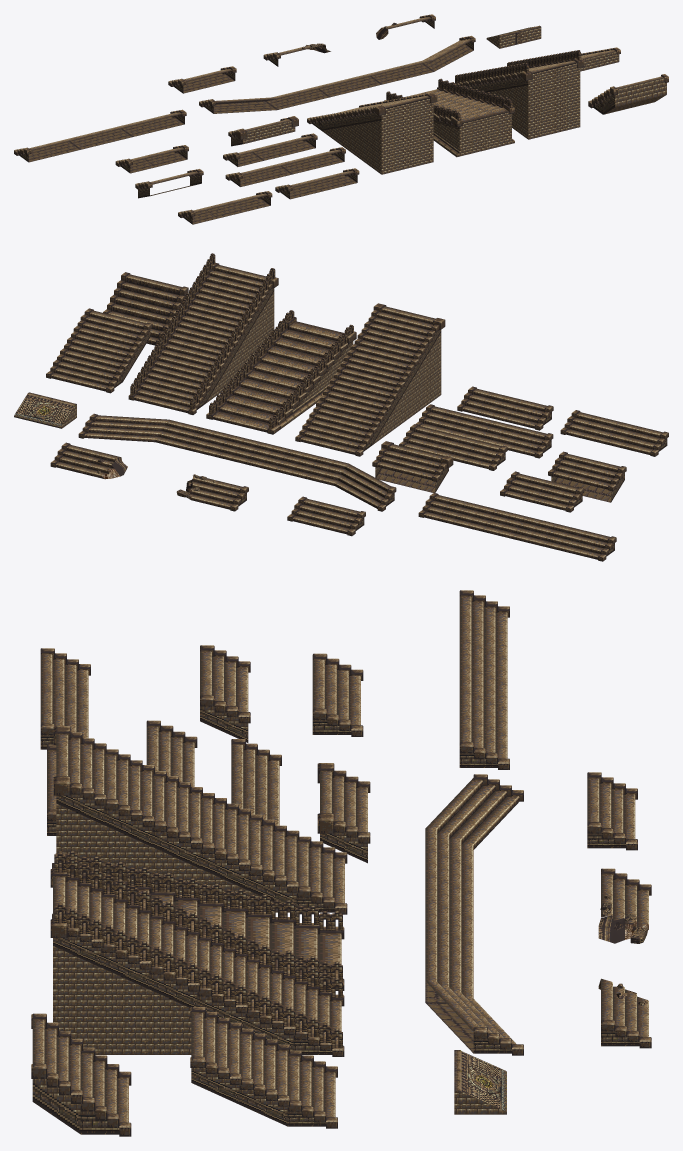
Rendered from EnvMdrMD_Ruins_A_Stairs_A.FBX.
3 views of the same model, one above another, from view 1: azimuth 30°, elevation 25°; view 2: azimuth 150°, elevation 25°; view 3: azimuth 270°, elevation 25° (orthographic). The views are drawn at different scales.
Parts seen in each view (by area): view 1: EnvMdrMD_Ruins_A_Stairs_Spline_B, EnvMdrMD_Ruins_A_Stairs_A, EnvMdrMD_Ruins_A_Stairs_Spline_A, EnvMdrMD_Ruins_A_Stairs_Wide_B, EnvMdrMD_Ruins_A_Stairs_Wide_A, EnvMdrMD_Ruins_A_Stairs_A_Small, EnvMdrMD_Ruins_A_Stairs_Wide_C, EnvMdrMD_Ruins_A_Stairs_Wide_G, EnvMdrMD_Ruins_A_Stairs_Wide_D, EnvMdrMD_Ruins_A_Stairs_Wide_E, EnvMdrMD_Ruins_A_Stairs_A_End, EnvMdrMD_Ruins_A_Stairs_Wide_F (+5 smaller); view 2: EnvMdrMD_Ruins_A_Stairs_Spline_B, EnvMdrMD_Ruins_A_Stairs_A, EnvMdrMD_Ruins_A_Stairs_Spline_A, EnvMdrMD_Ruins_A_Stairs_Wide_B, EnvMdrMD_Ruins_A_Stairs_A_Half, EnvMdrMD_Ruins_A_Stairs_Wide_A, EnvMdrMD_Ruins_A_Stairs_Wide_A_Broken, EnvMdrMD_Ruins_A_Stairs_A_Small, EnvMdrMD_Ruins_A_Stairs_Wide_C, EnvMdrMD_Ruins_A_Stairs_A_End, EnvMdrMD_Ruins_A_Stairs_Wide_G, EnvMdrMD_Ruins_A_Stairs_Wide_D (+5 smaller); view 3: EnvMdrMD_Ruins_A_Stairs_Spline_B, EnvMdrMD_Ruins_A_Stairs_A, EnvMdrMD_Ruins_A_Stairs_Wide_B, EnvMdrMD_Ruins_A_Stairs_A_Half, EnvMdrMD_Ruins_A_Stairs_Spline_A, EnvMdrMD_Ruins_A_Stairs_A_Small, EnvMdrMD_Ruins_A_Stairs_Wide_A, EnvMdrMD_Ruins_A_Stairs_Wide_A_Broken, EnvMdrMD_Ruins_A_Stairs_A_End, EnvMdrMD_Ruins_A_Stairs_A_Loop, EnvMdrMD_Ruins_A_Stairs_Wide_G, EnvMdrMD_Ruins_A_Stairs_Wide_F (+5 smaller).
Boxes of the visible parts, <box> form: EnvMdrMD_Ruins_A_Stairs_Spline_B: <box>454,50,584,139</box>; EnvMdrMD_Ruins_A_Stairs_A: <box>307,92,437,174</box>; EnvMdrMD_Ruins_A_Stairs_Spline_A: <box>384,78,514,157</box>; EnvMdrMD_Ruins_A_Stairs_Wide_B: <box>199,35,475,113</box>; EnvMdrMD_Ruins_A_Stairs_Wide_A: <box>14,109,186,162</box>; EnvMdrMD_Ruins_A_Stairs_A_Small: <box>588,74,668,114</box>; EnvMdrMD_Ruins_A_Stairs_Wide_C: <box>225,147,345,186</box>; EnvMdrMD_Ruins_A_Stairs_Wide_G: <box>178,191,272,224</box>; EnvMdrMD_Ruins_A_Stairs_Wide_D: <box>223,133,317,166</box>; EnvMdrMD_Ruins_A_Stairs_Wide_E: <box>275,168,359,199</box>; EnvMdrMD_Ruins_A_Stairs_A_End: <box>228,116,298,146</box>; EnvMdrMD_Ruins_A_Stairs_Wide_F: <box>115,145,188,173</box>; EnvMdrMD_Ruins_A_Stairs_Spline_B: <box>128,253,278,414</box>; EnvMdrMD_Ruins_A_Stairs_A: <box>295,303,445,456</box>; EnvMdrMD_Ruins_A_Stairs_Spline_A: <box>206,310,356,434</box>; EnvMdrMD_Ruins_A_Stairs_Wide_B: <box>78,413,396,511</box>; EnvMdrMD_Ruins_A_Stairs_A_Half: <box>46,308,152,393</box>; EnvMdrMD_Ruins_A_Stairs_Wide_A: <box>418,493,616,561</box>; EnvMdrMD_Ruins_A_Stairs_Wide_A_Broken: <box>50,442,248,511</box>; EnvMdrMD_Ruins_A_Stairs_A_Small: <box>103,272,188,345</box>; EnvMdrMD_Ruins_A_Stairs_Wide_C: <box>415,404,553,458</box>; EnvMdrMD_Ruins_A_Stairs_A_End: <box>372,441,453,492</box>; EnvMdrMD_Ruins_A_Stairs_Wide_G: <box>560,410,668,456</box>; EnvMdrMD_Ruins_A_Stairs_Wide_D: <box>399,424,507,470</box>; EnvMdrMD_Ruins_A_Stairs_Spline_B: <box>50,852,344,1056</box>; EnvMdrMD_Ruins_A_Stairs_A: <box>53,726,347,914</box>; EnvMdrMD_Ruins_A_Stairs_Wide_B: <box>425,774,523,1055</box>; EnvMdrMD_Ruins_A_Stairs_A_Half: <box>190,1007,337,1128</box>; EnvMdrMD_Ruins_A_Stairs_Spline_A: <box>52,851,344,990</box>; EnvMdrMD_Ruins_A_Stairs_A_Small: <box>31,1013,131,1136</box>; EnvMdrMD_Ruins_A_Stairs_Wide_A: <box>459,590,509,769</box>; EnvMdrMD_Ruins_A_Stairs_Wide_A_Broken: <box>598,868,651,1048</box>; EnvMdrMD_Ruins_A_Stairs_A_End: <box>317,763,370,863</box>; EnvMdrMD_Ruins_A_Stairs_A_Loop: <box>200,645,250,742</box>; EnvMdrMD_Ruins_A_Stairs_Wide_G: <box>40,648,90,749</box>; EnvMdrMD_Ruins_A_Stairs_Wide_F: <box>312,653,363,736</box>.
Bounding box in the file's own units: 5145 × 790 × 2578.
1 material, 1 textured.
